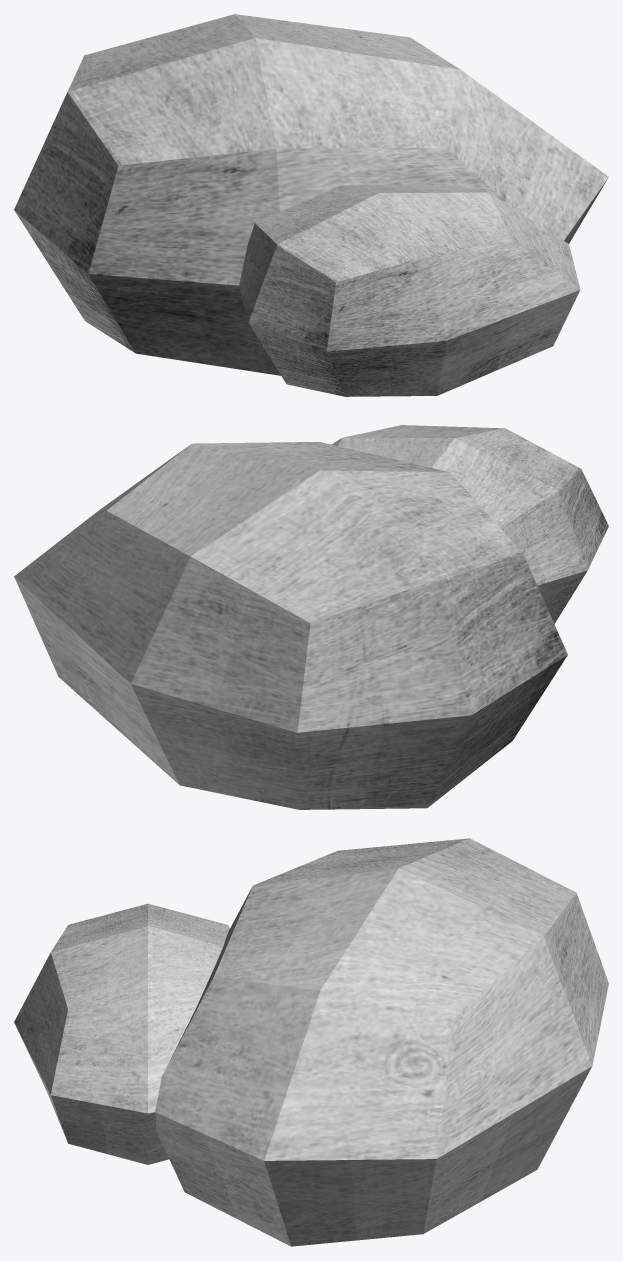
The model's file is Pedrinha3.fbx.
3 views of the same model, one above another, from view 1: azimuth 30°, elevation 25°; view 2: azimuth 150°, elevation 25°; view 3: azimuth 270°, elevation 25° (orthographic). The views are drawn at different scales.
Visible parts, largest first — view 1: Cube.054; view 2: Cube.054; view 3: Cube.054.
Boxes of the visible parts, box(x1,y1,x2,y2) form: Cube.054: box(14, 14, 608, 396); Cube.054: box(14, 425, 608, 809); Cube.054: box(14, 838, 608, 1246).
Bounding box in the file's own units: 193 × 119 × 206.
Materials: 1 (1 with a texture image).
